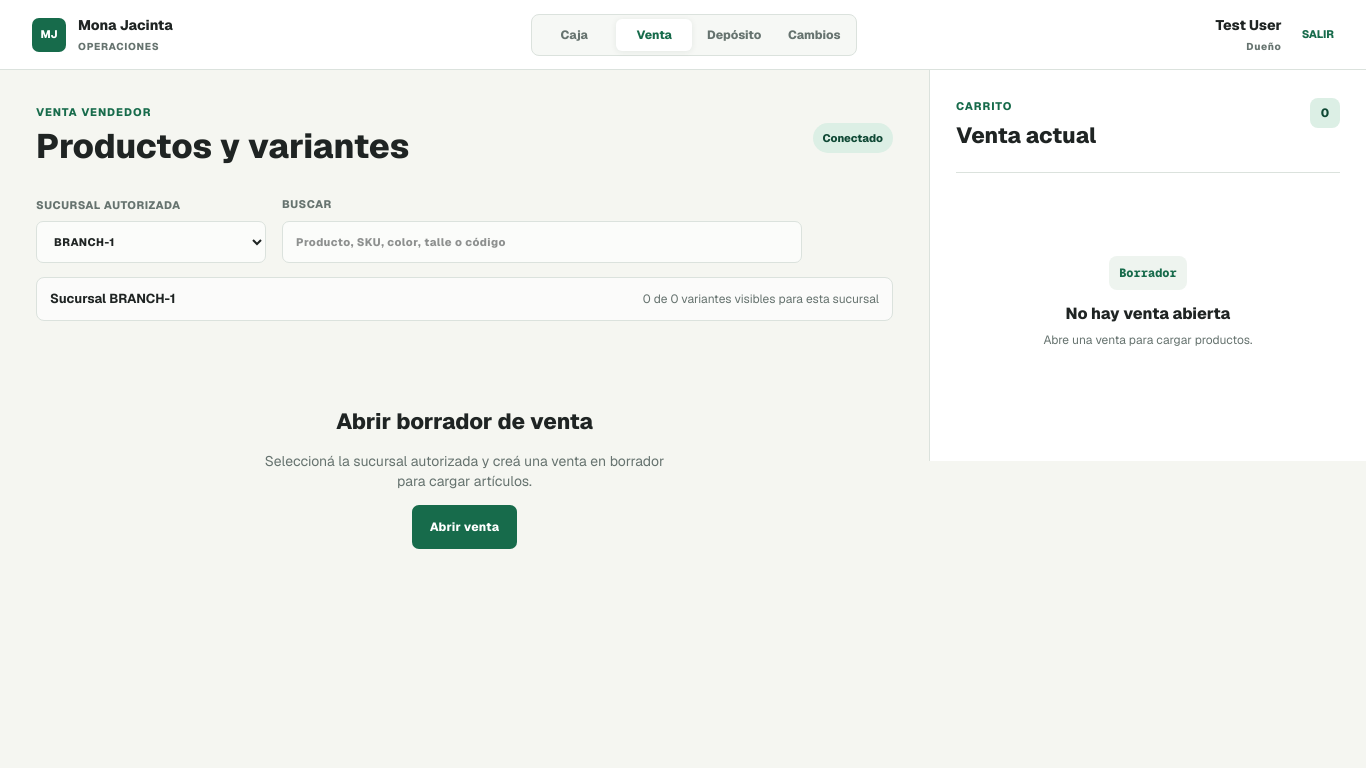
Depósito (WAREHOUSE-MVP) › access › W03 OWNER keeps Venta / Caja, defaults to Venta and can open Depósito
This screenshot has width=1366, height=768.
Expected: the heading "Productos y variantes" is shown, [36,128,410,164]
Expected: the button "Venta" is shown, [616,18,692,50]
Click the button "Depósito" at (734, 34), box [696,18,772,50]
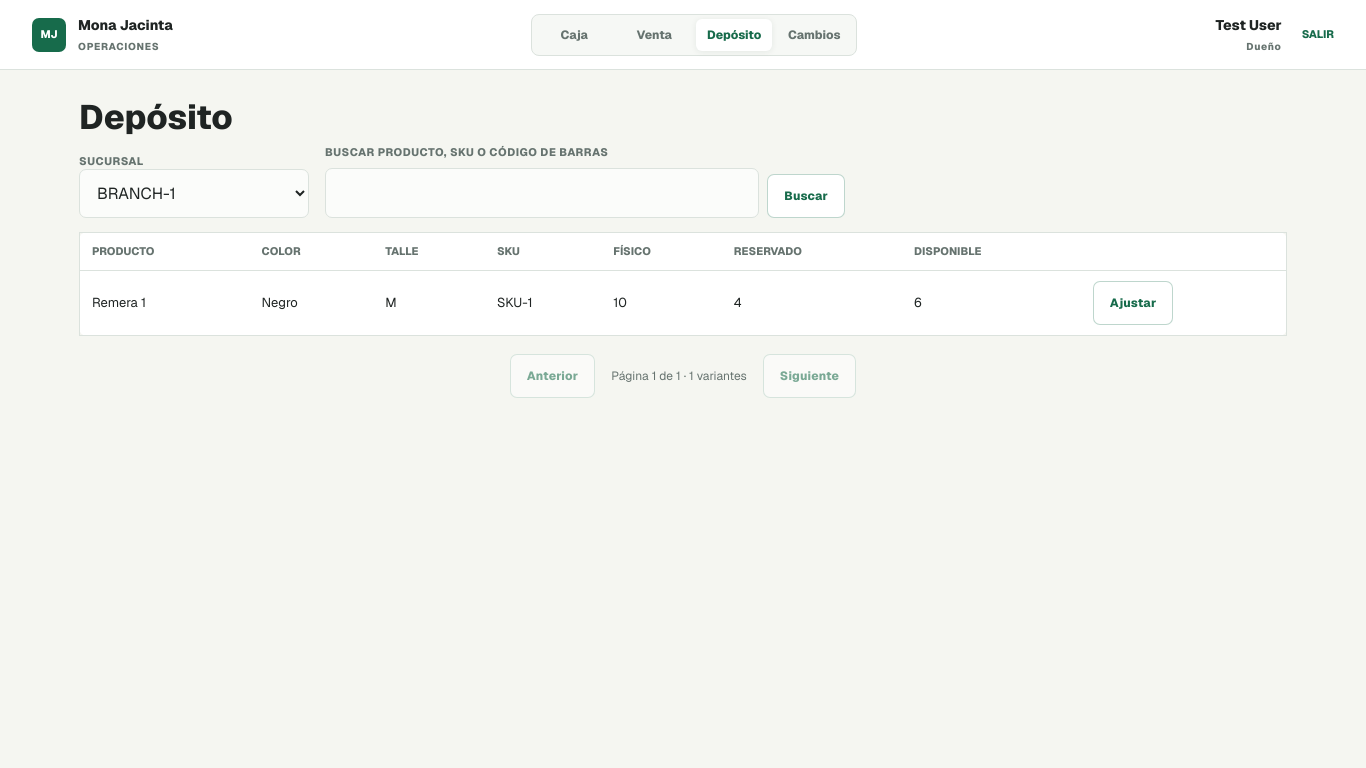
Now the heading "Depósito" is shown, box [79,95,233,139]
Now the text "Remera 1" is shown, box [80,270,250,335]
